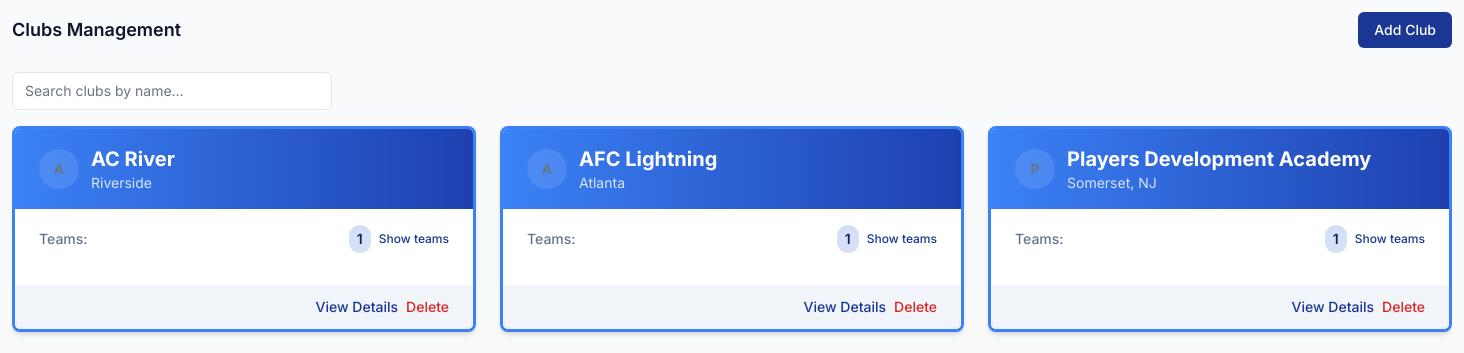
AdminClubs search › shows a no-results message when nothing matches
Type "zzzzz" into the search field with test id "club-search".
click(172, 91); type("zzzzz")  # box [12,72,332,110]
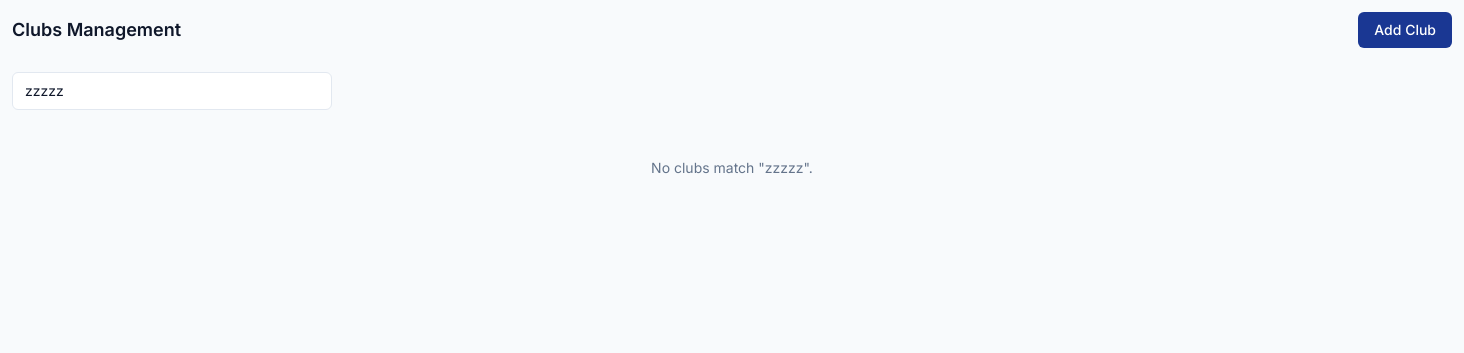
Now the text "No clubs match" is shown, box [651,159,813,176]
